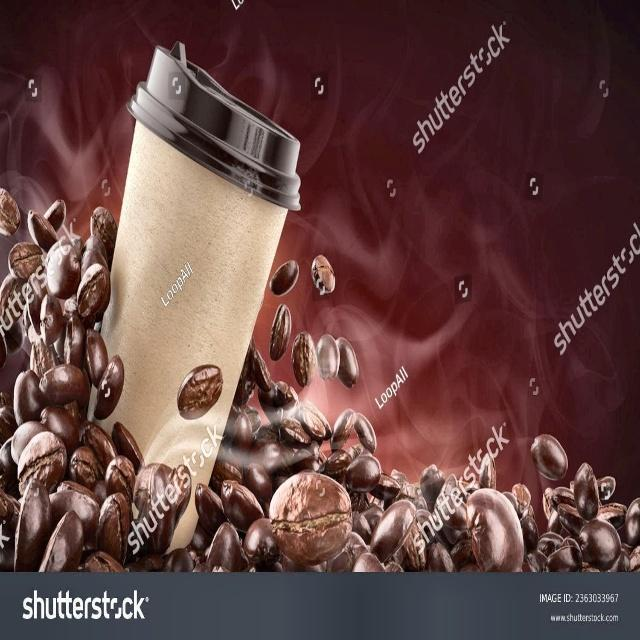paper_cup: (101, 33, 302, 567)
